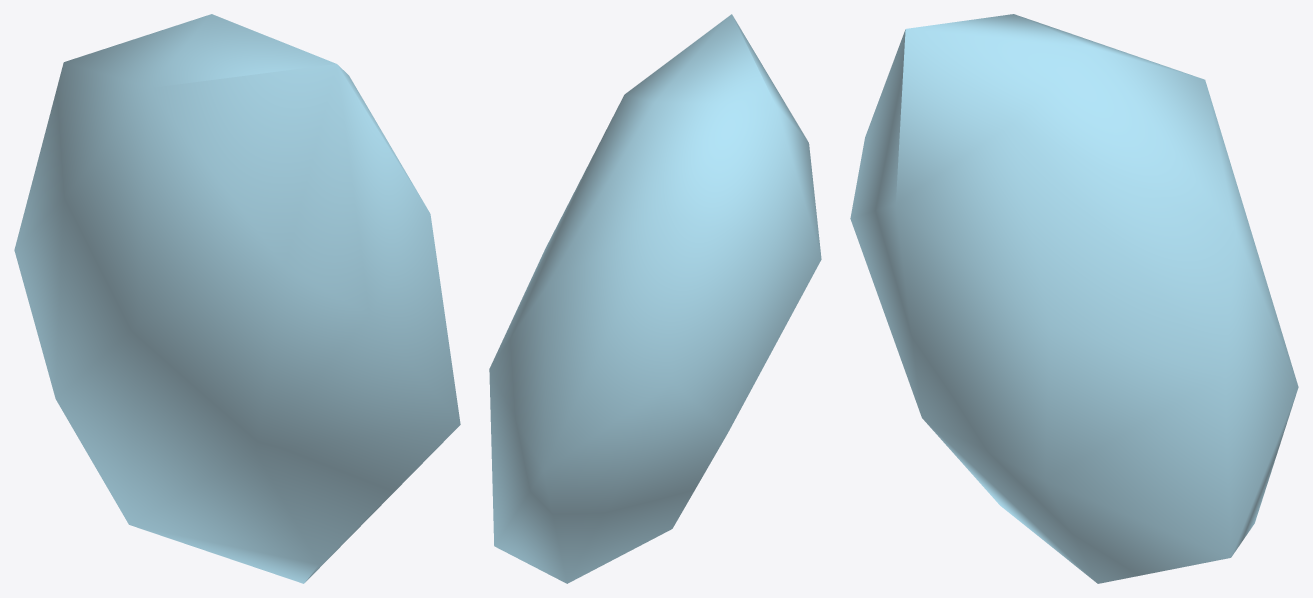
Rendered from SM_Shard_3.glb.
3 renders of one model, left to right at view 1: azimuth 30°, elevation 25°; view 2: azimuth 150°, elevation 25°; view 3: azimuth 270°, elevation 25°, orthographic. The views are drawn at different scales.
Visible parts, largest first — view 1: SM_Shard_3; view 2: SM_Shard_3; view 3: SM_Shard_3.
Part boxes in pixels (box(x1,y1,x2,y2)): SM_Shard_3: box(14, 14, 460, 583); SM_Shard_3: box(489, 14, 821, 583); SM_Shard_3: box(850, 14, 1298, 583).
Size of the model in its own units: 0.1744 by 0.3262 by 0.2541.
